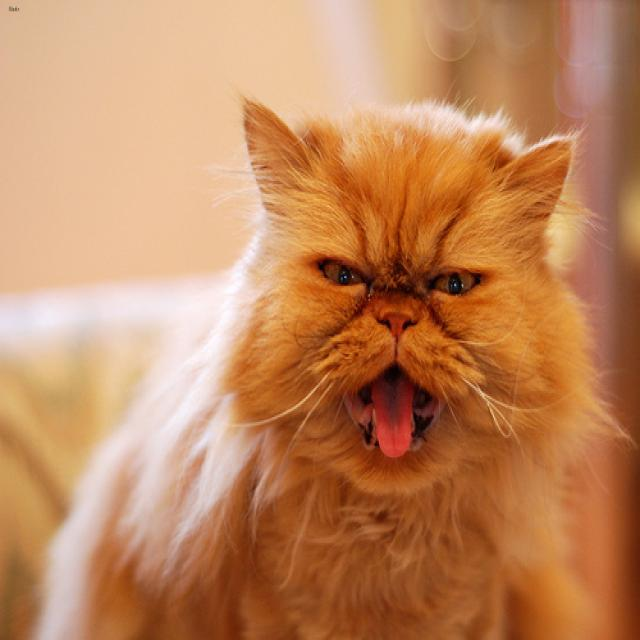Persian: (242, 97, 575, 490)
